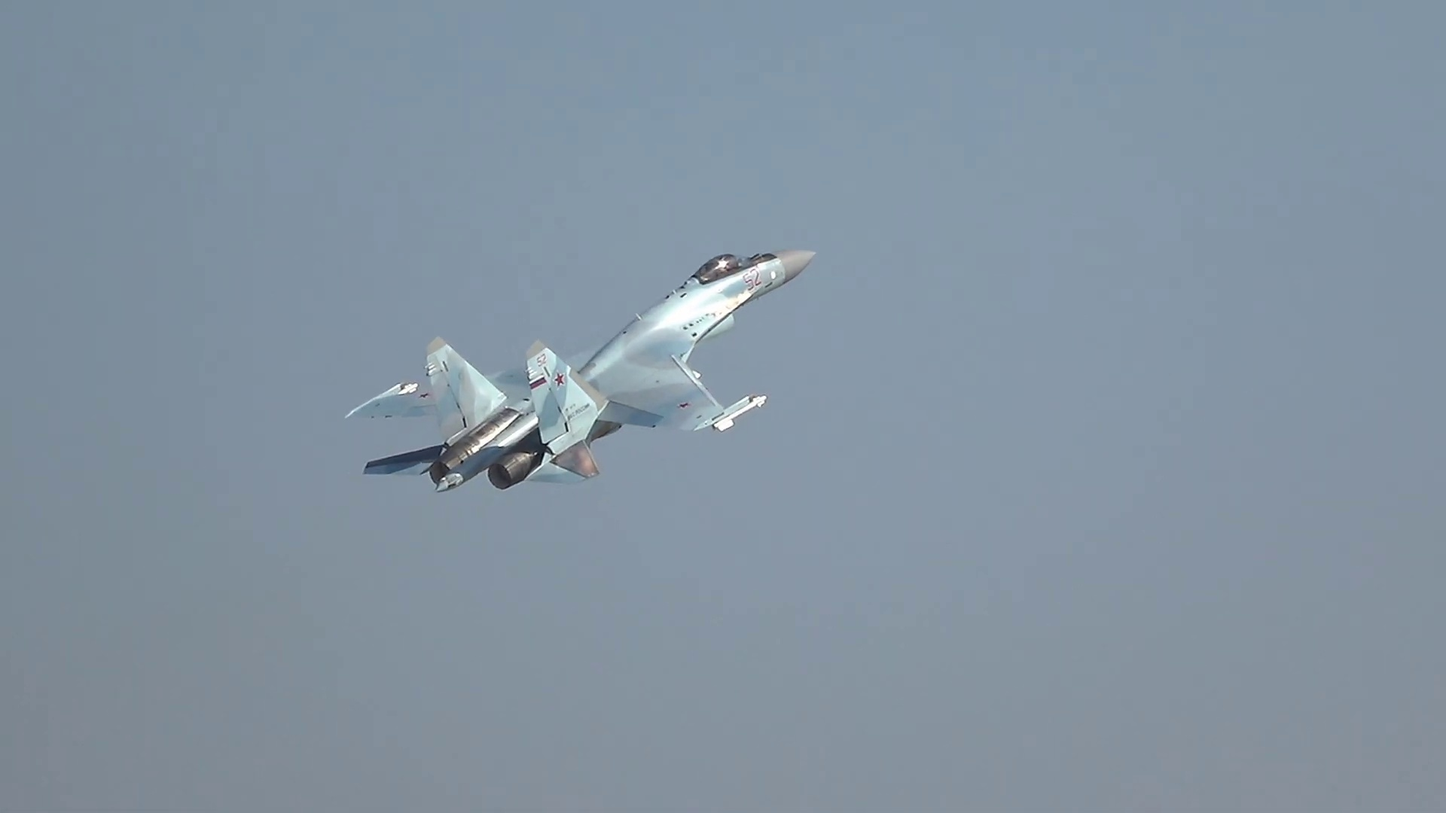Su35: (344, 249, 816, 494)
